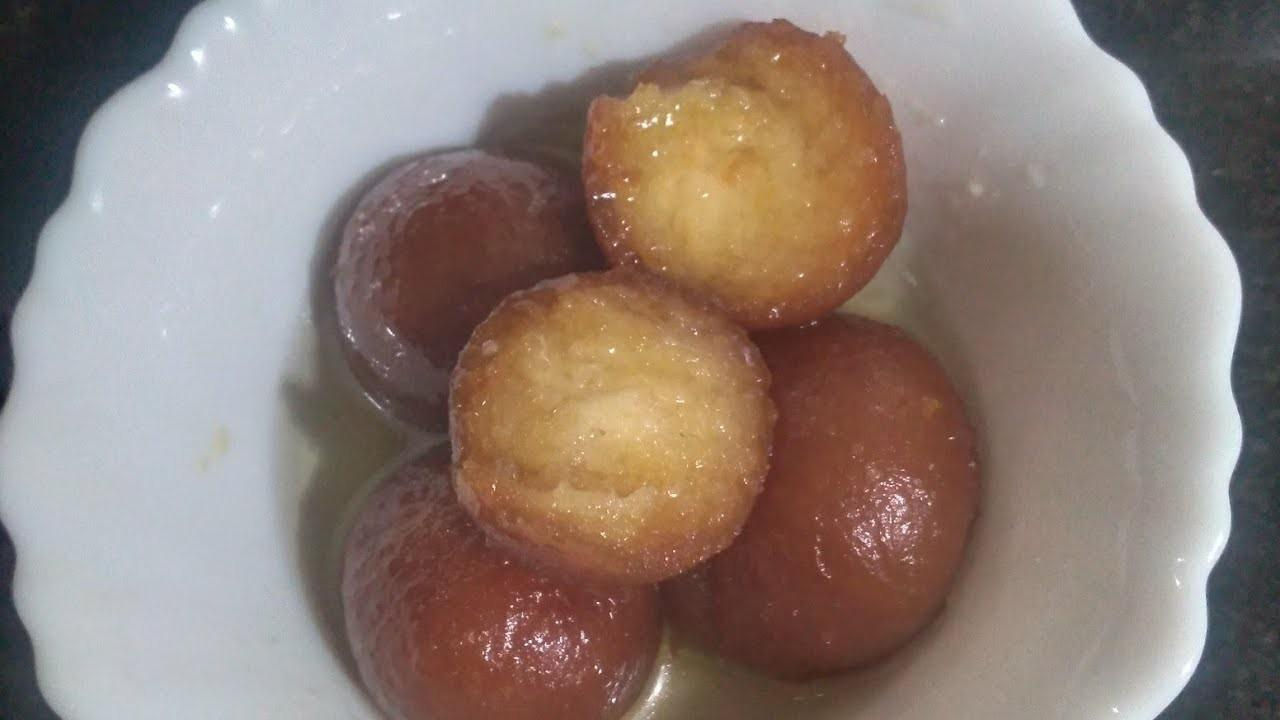GulabJamun: (660, 312, 986, 675), (442, 263, 778, 590), (581, 17, 909, 339), (340, 446, 662, 718), (330, 147, 581, 430)
